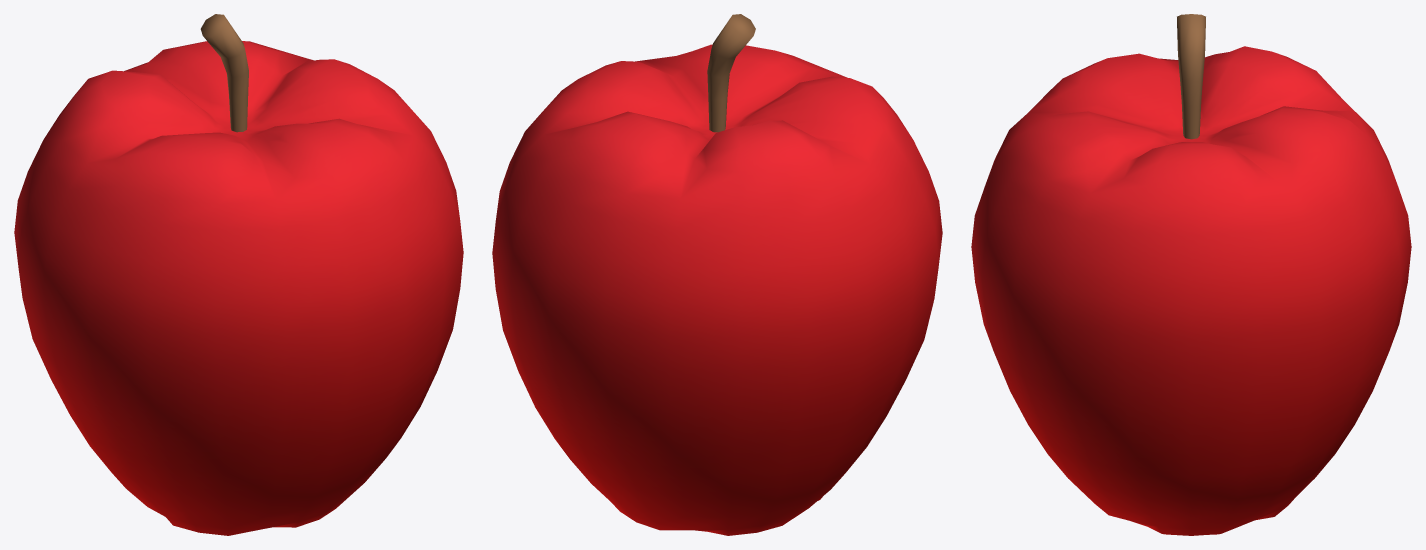
Rendered from Apple.fbx.
3 views of the same model, side by side, from view 1: azimuth 30°, elevation 25°; view 2: azimuth 150°, elevation 25°; view 3: azimuth 270°, elevation 25° (orthographic). The views are drawn at different scales.
Parts seen in each view (by area): view 1: Apple; view 2: Apple; view 3: Apple.
Boxes of the visible parts, x1=… form: Apple: x1=14, y1=14, x2=463, y2=535; Apple: x1=492, y1=14, x2=942, y2=535; Apple: x1=971, y1=14, x2=1411, y2=535.
Size of the model in its own units: 0.4677 by 0.5589 by 0.4671.
Materials: 1 (1 with a texture image).
